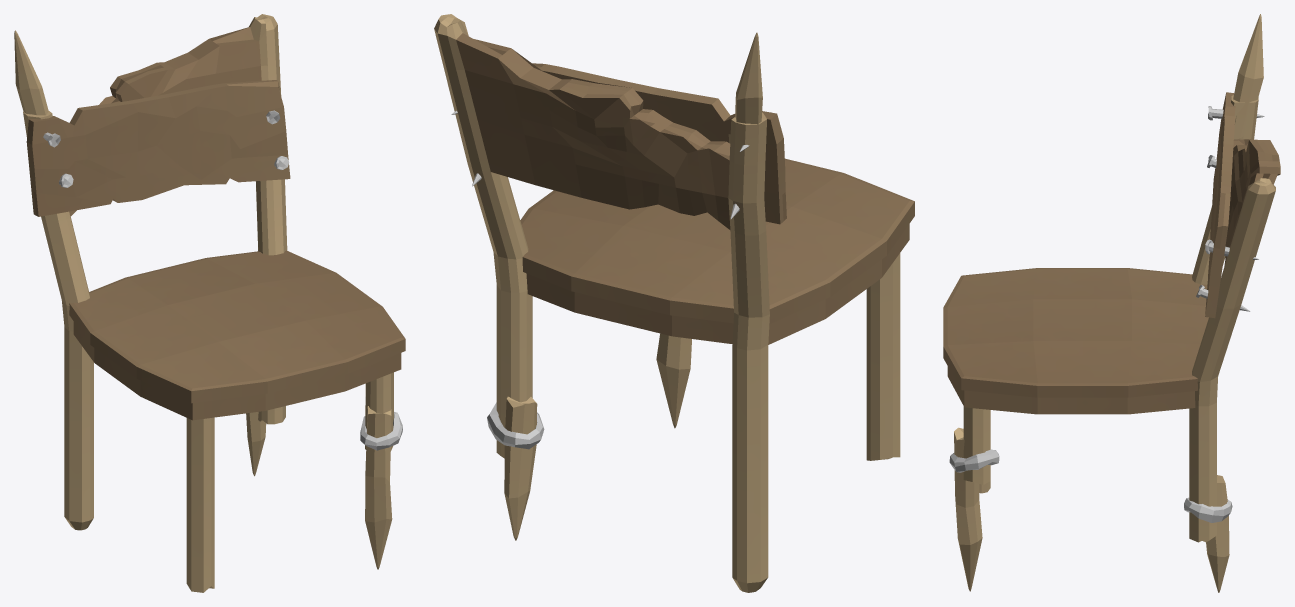
The model's file is chair_repaired_3.glb.
3 renders of one model, left to right at view 1: azimuth 30°, elevation 25°; view 2: azimuth 150°, elevation 25°; view 3: azimuth 270°, elevation 25°, orthographic. The views are drawn at different scales.
Parts seen in each view (by area): view 1: chair_repaired_3; view 2: chair_repaired_3; view 3: chair_repaired_3.
Part boxes in pixels (bbox=[...]): chair_repaired_3: bbox=[14, 14, 405, 592]; chair_repaired_3: bbox=[434, 14, 914, 592]; chair_repaired_3: bbox=[943, 14, 1280, 592].
Bounding box in the file's own units: 0.4754 × 0.8335 × 0.5374.
1 material, 1 textured.
